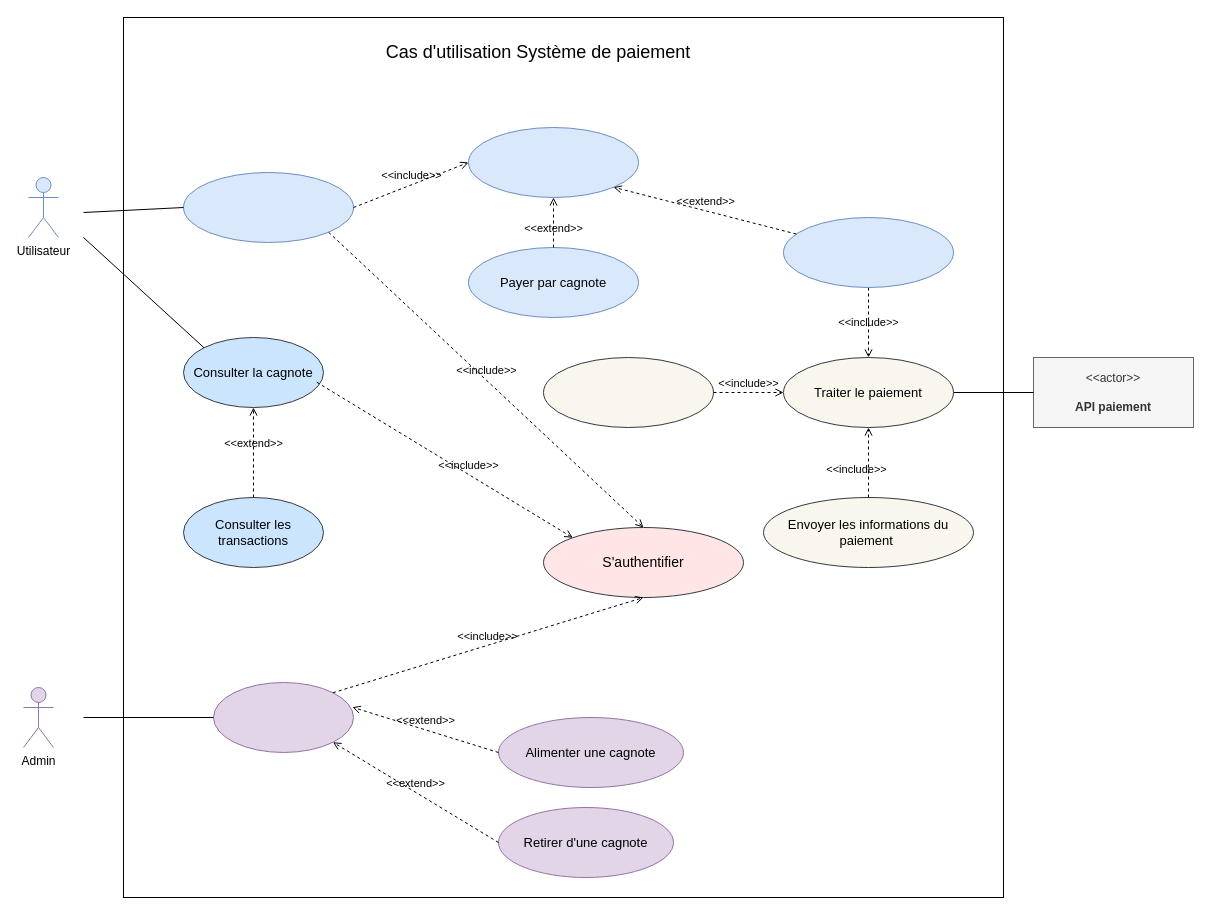
Some shapes in this 1211 by 915 pixel diagram are drawn without their labels. Each missing label, with the centre of its shape:
Accepter ou refuser le paiement: [628,392]
Gérer les cagnotes: [283,717]
Payer par carte: [868,252]
Payer une réservation: [553,162]
Réserver un abonnement: [268,207]
